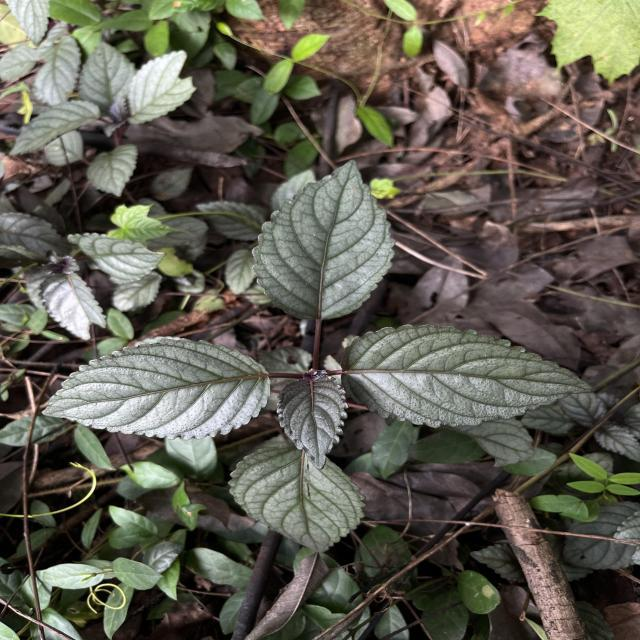Hemigraphis colorata: (338, 320, 600, 430), (37, 334, 273, 443), (248, 154, 398, 322), (224, 442, 370, 556), (275, 372, 351, 474)
